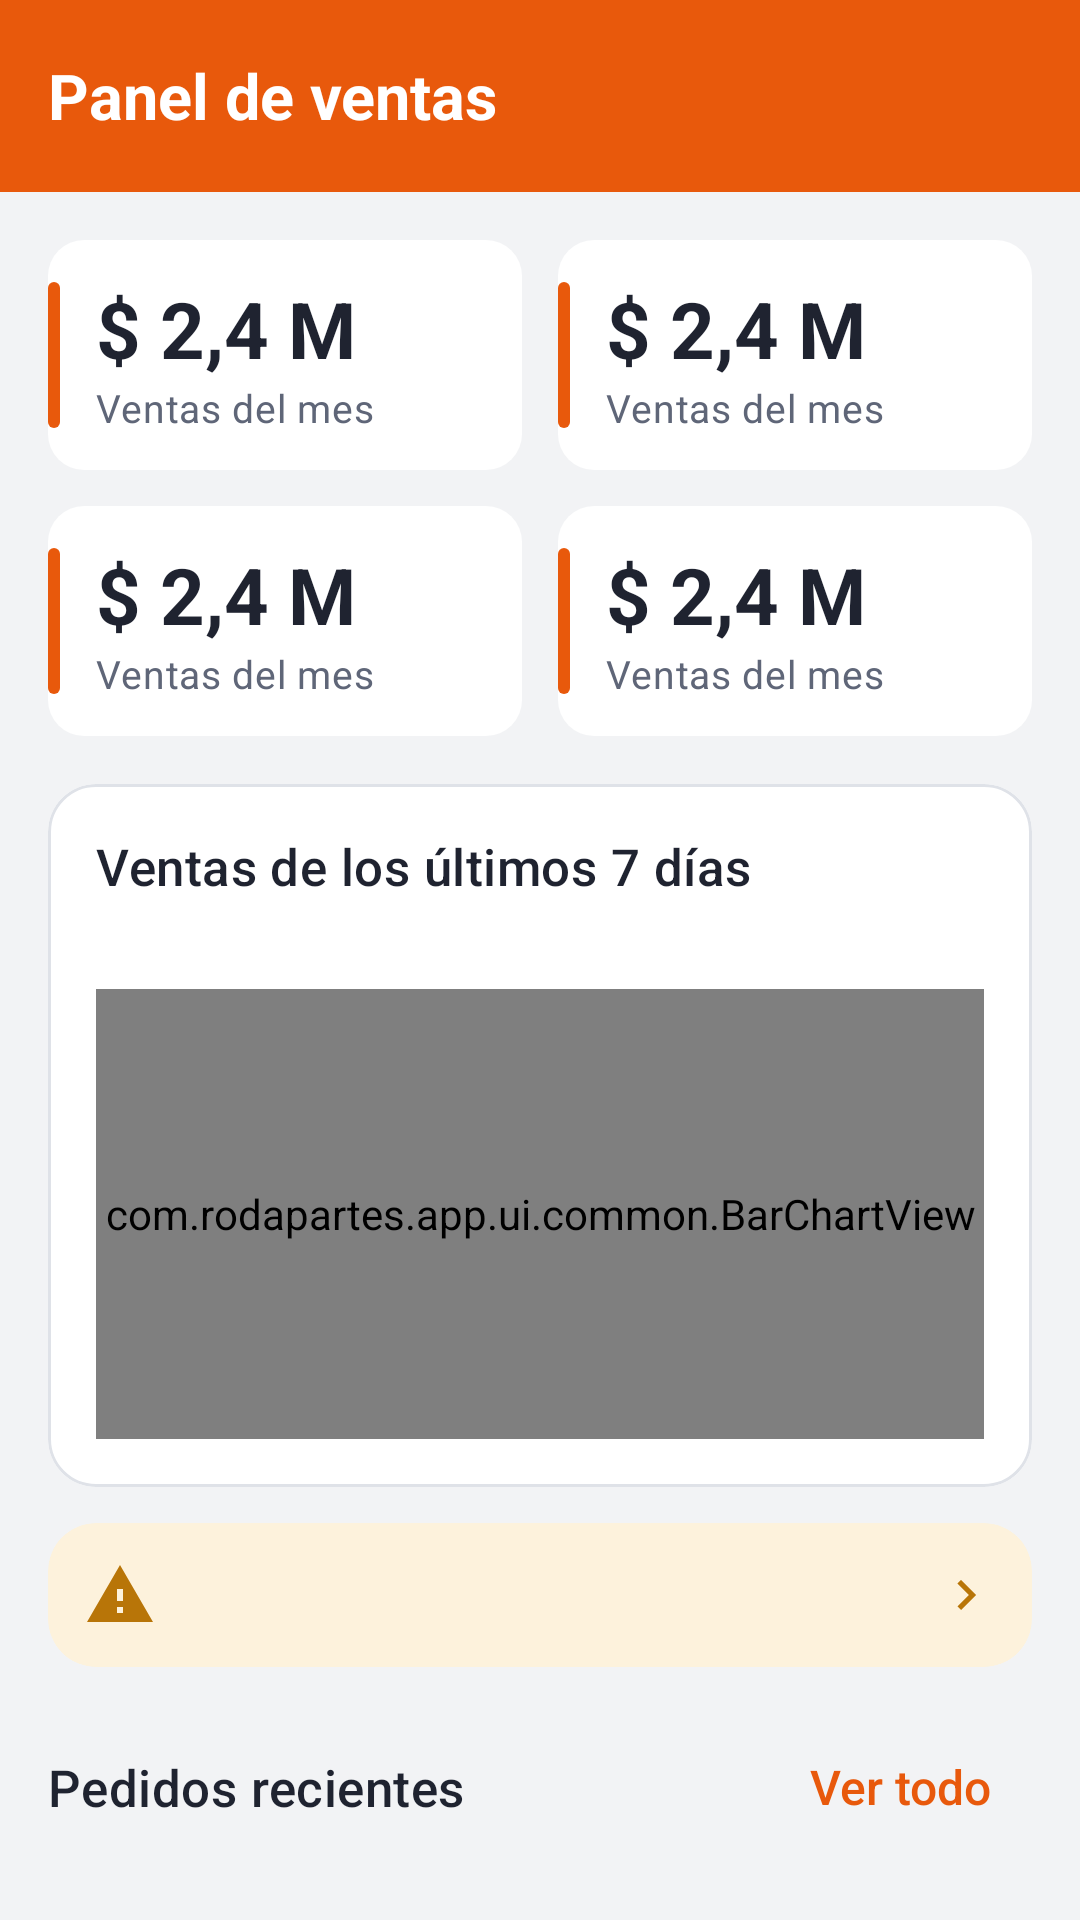

Named icons in this screenshot (1080px×1920px) and their bounding boxes, (left=x1, top=y1, right=x2, bottom=y2):
chevron: (left=957, top=1580, right=976, bottom=1610)
warning: (left=87, top=1565, right=153, bottom=1622)
